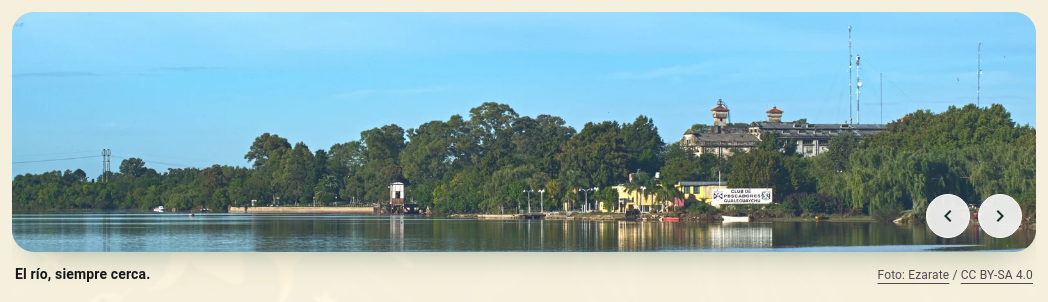
Test case: cambia la foto mediante controles y teclado, con créditos reales
Check: the text "El río, siempre cerca." is shown, box [15, 264, 150, 285]
Click the button named "Foto siguiente". click: click(1000, 216)
box: [978, 194, 1022, 238]
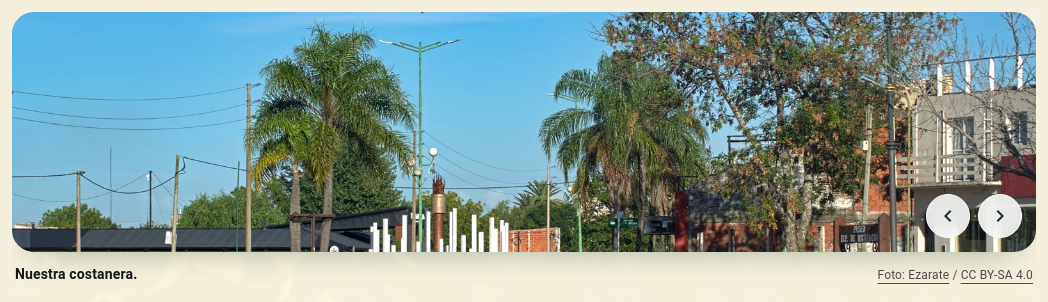
Check: the text "Nuestra costanera." is shown, box [15, 264, 137, 285]
Press ArrowLeft in the element named "Fotografías de Gualeguaychú"
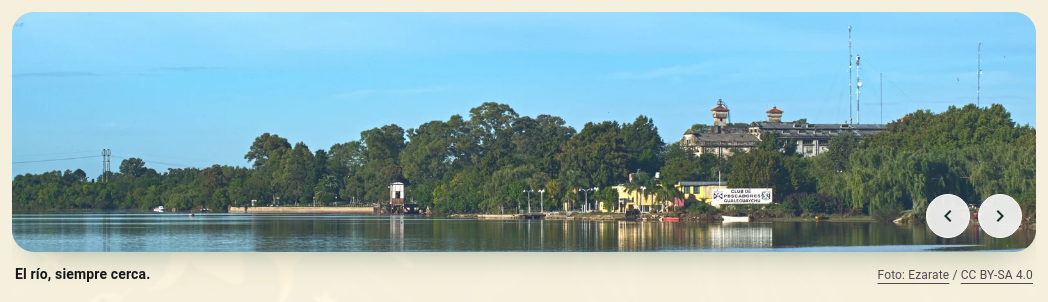
Check: the text "El río, siempre cerca." is shown, box [15, 264, 150, 285]
